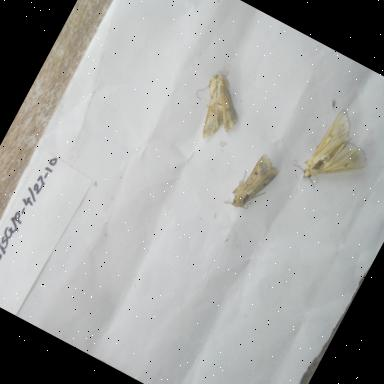abw: (280, 95, 384, 214), (176, 60, 258, 152), (218, 142, 290, 224)
